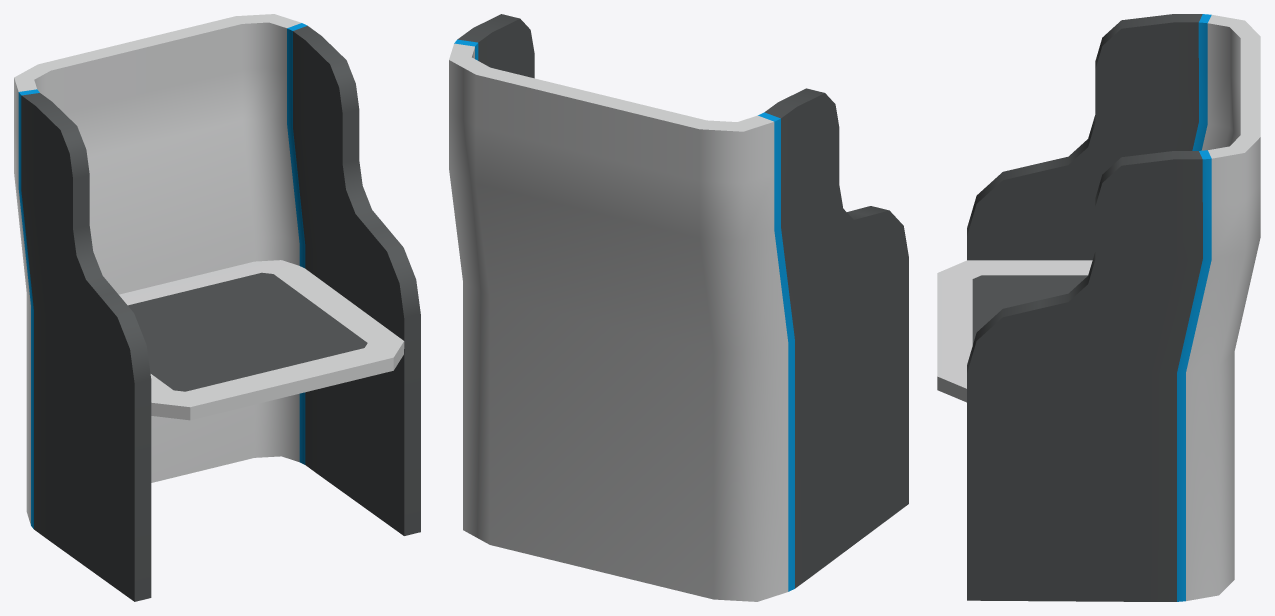
File: Chair_004.fbx
3 renders of one model, left to right at view 1: azimuth 30°, elevation 25°; view 2: azimuth 150°, elevation 25°; view 3: azimuth 270°, elevation 25°, orthographic. The views are drawn at different scales.
Visible parts, largest first — view 1: Chair_004; view 2: Chair_004; view 3: Chair_004.
Part boxes in pixels (left/top/right/bottom): Chair_004: left=14, top=14, right=420, bottom=601; Chair_004: left=449, top=14, right=908, bottom=601; Chair_004: left=937, top=14, right=1260, bottom=601.
Bounding box in the file's own units: 63.55 × 59.68 × 90.14.
